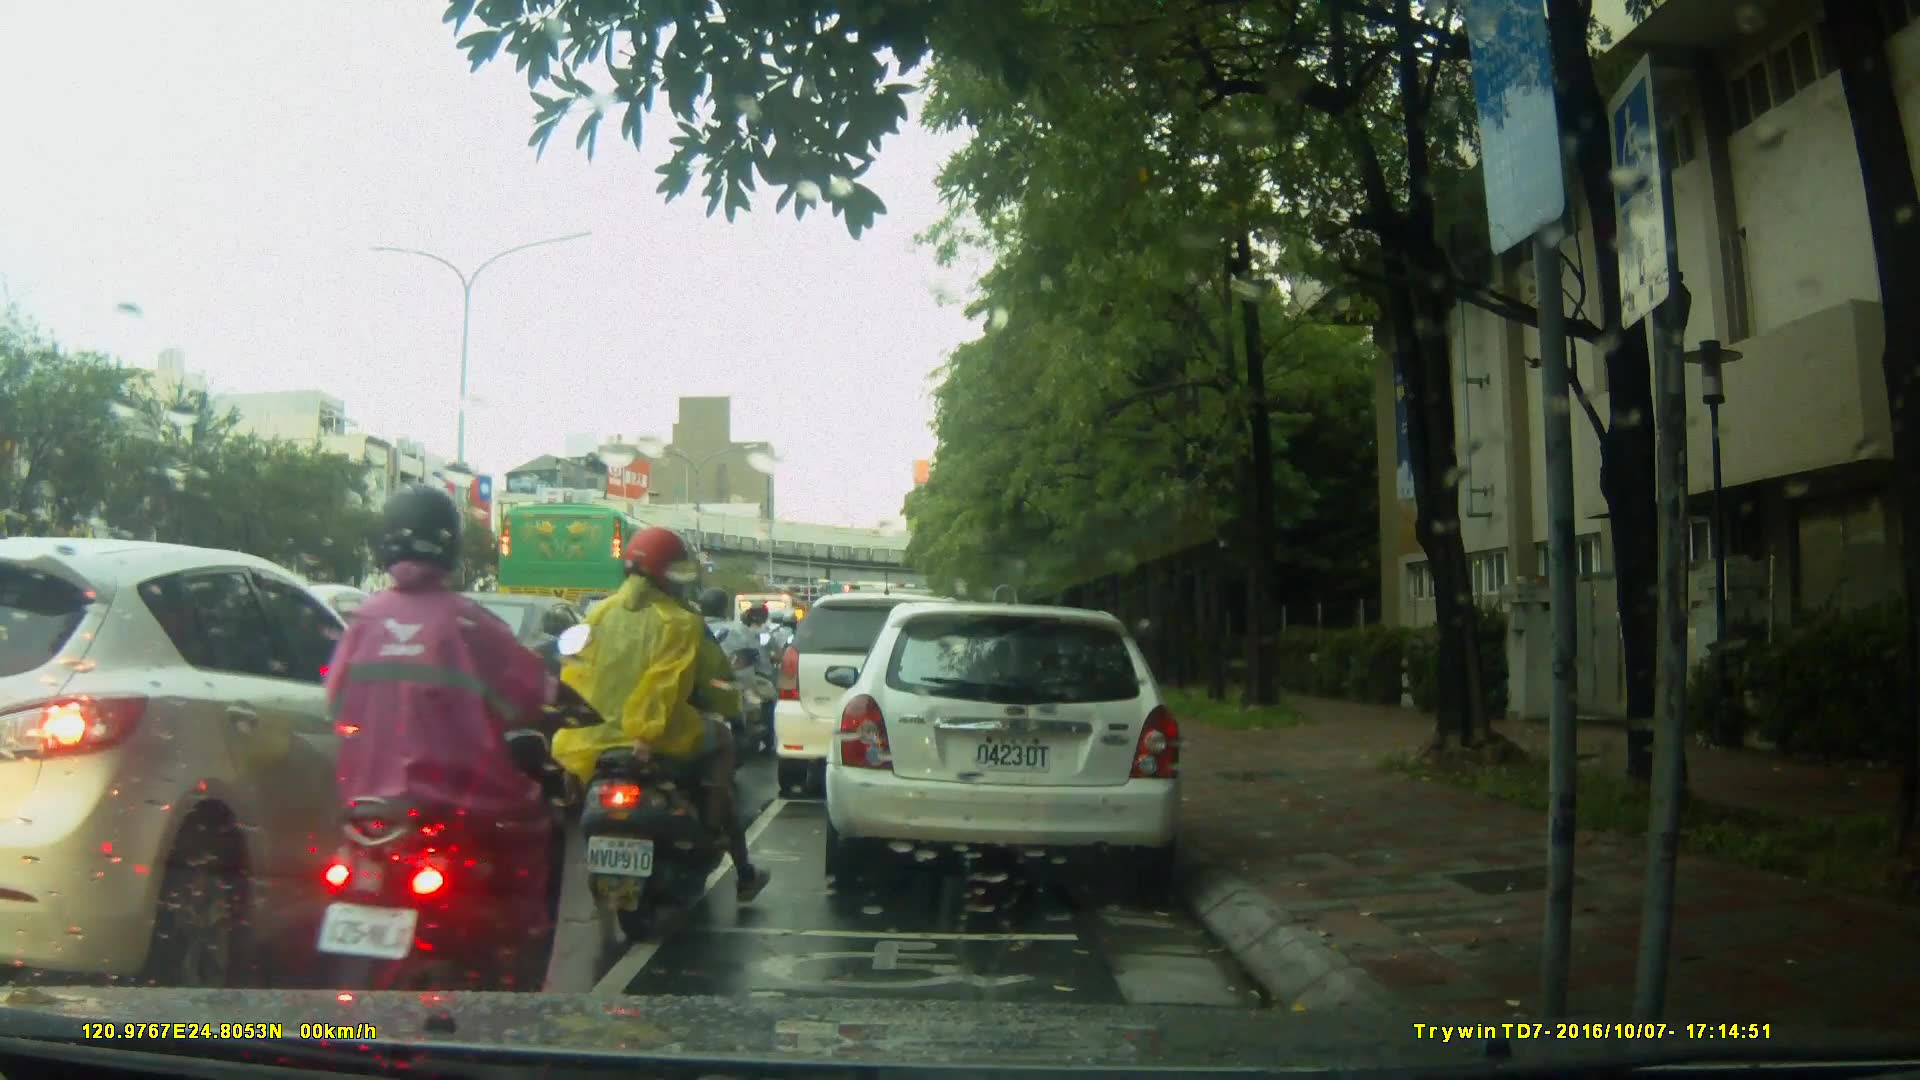rider: (294, 486, 550, 1038), (553, 527, 757, 936), (686, 589, 768, 785), (733, 599, 790, 745)
vehicle: (4, 535, 465, 988), (831, 592, 1196, 897), (319, 589, 629, 776), (770, 590, 999, 804), (495, 499, 709, 636)
